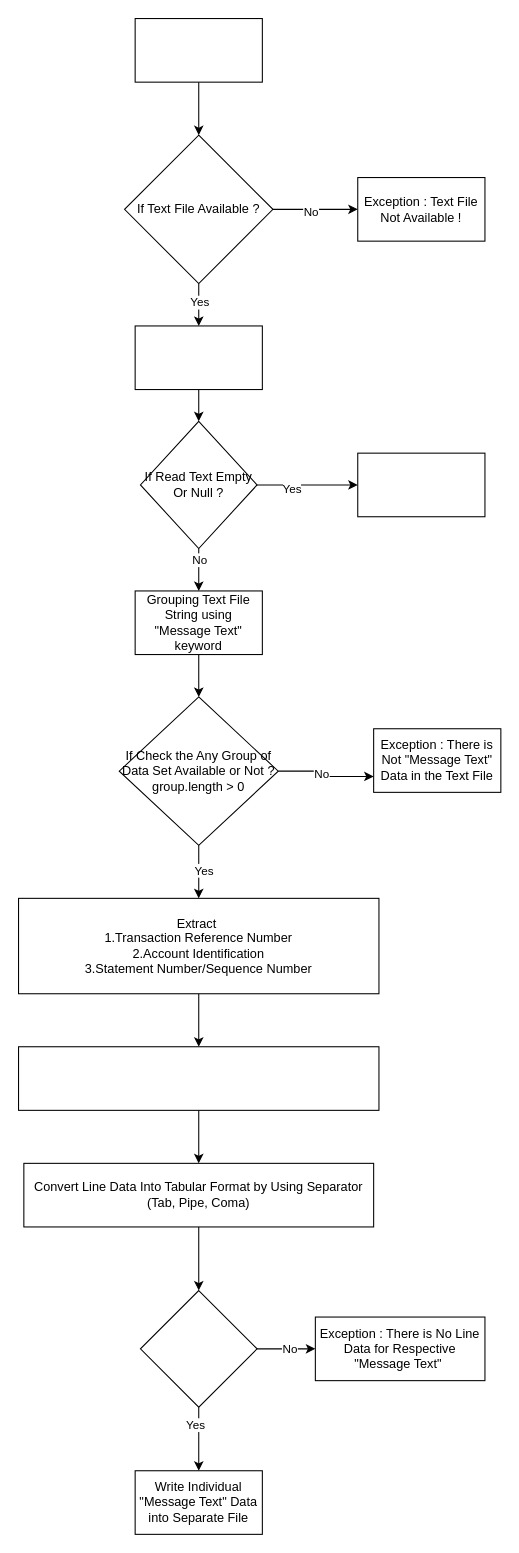
This 519x1553 diagram has some shape labels left out. Each missing label, with the centre of its shape:
"Exception : Text File Data Not Available For the Processing" goes at [421,484].
"Identify the Line Data" goes at [198,1078].
"If Line Data Not Available" goes at [198,1348].
"Read Text File" goes at [198,357].
"Text File" goes at [198,49].
